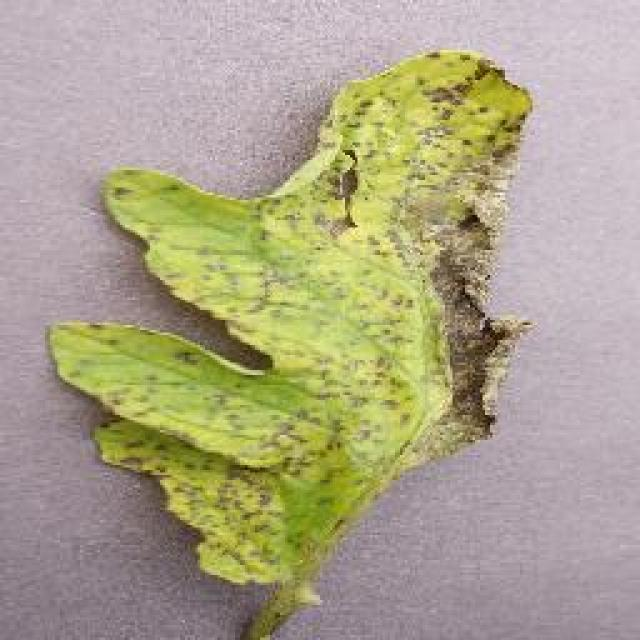Tomato target spot leaf: (47, 41, 535, 624)
